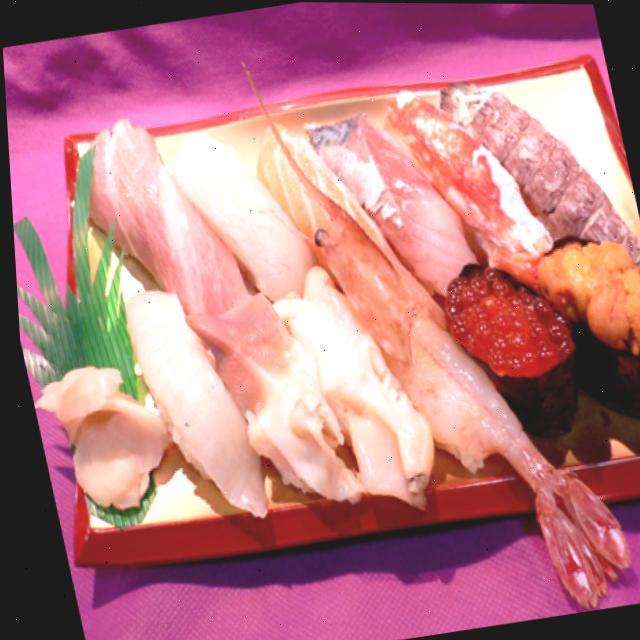寿司卷物: (0, 7, 640, 640)
